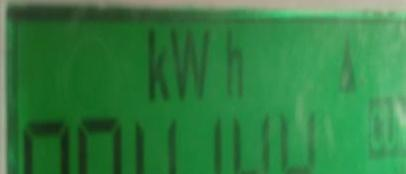.: (137, 25, 257, 106)
